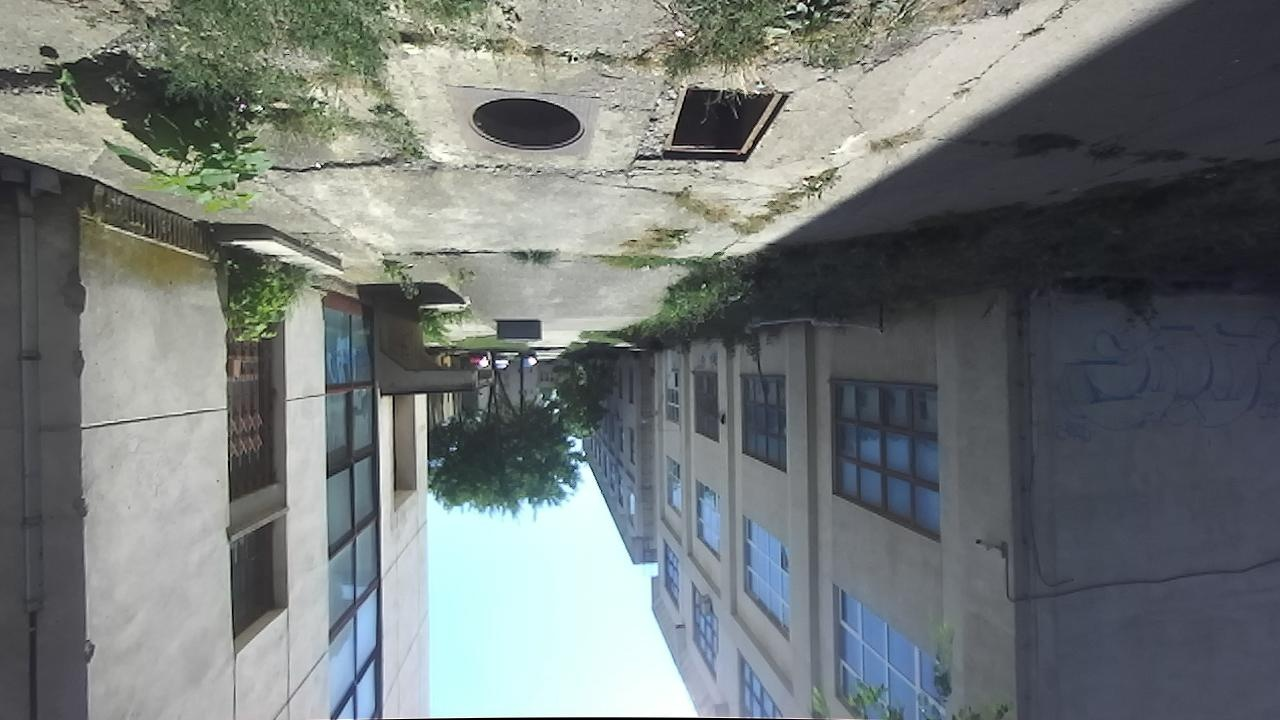drain: (657, 83, 796, 167), (462, 94, 590, 156)
